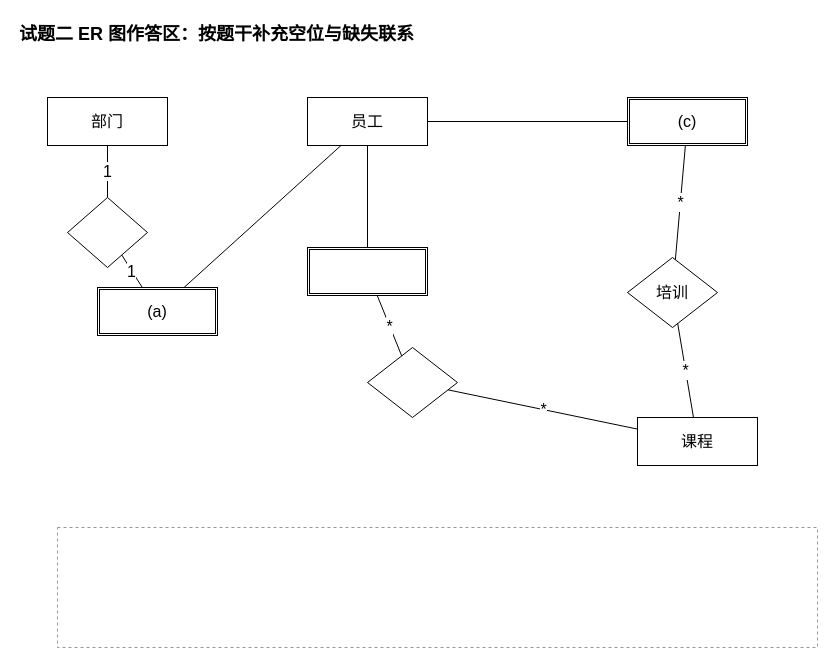
The diagram is 835 pixels wide and 665 high, and some of its shapes have lost their labels. Each missing label, with the centre of its shape:
"(b)" belongs at point (367, 271).
"讲授" belongs at point (412, 382).
"负责" belongs at point (107, 232).
